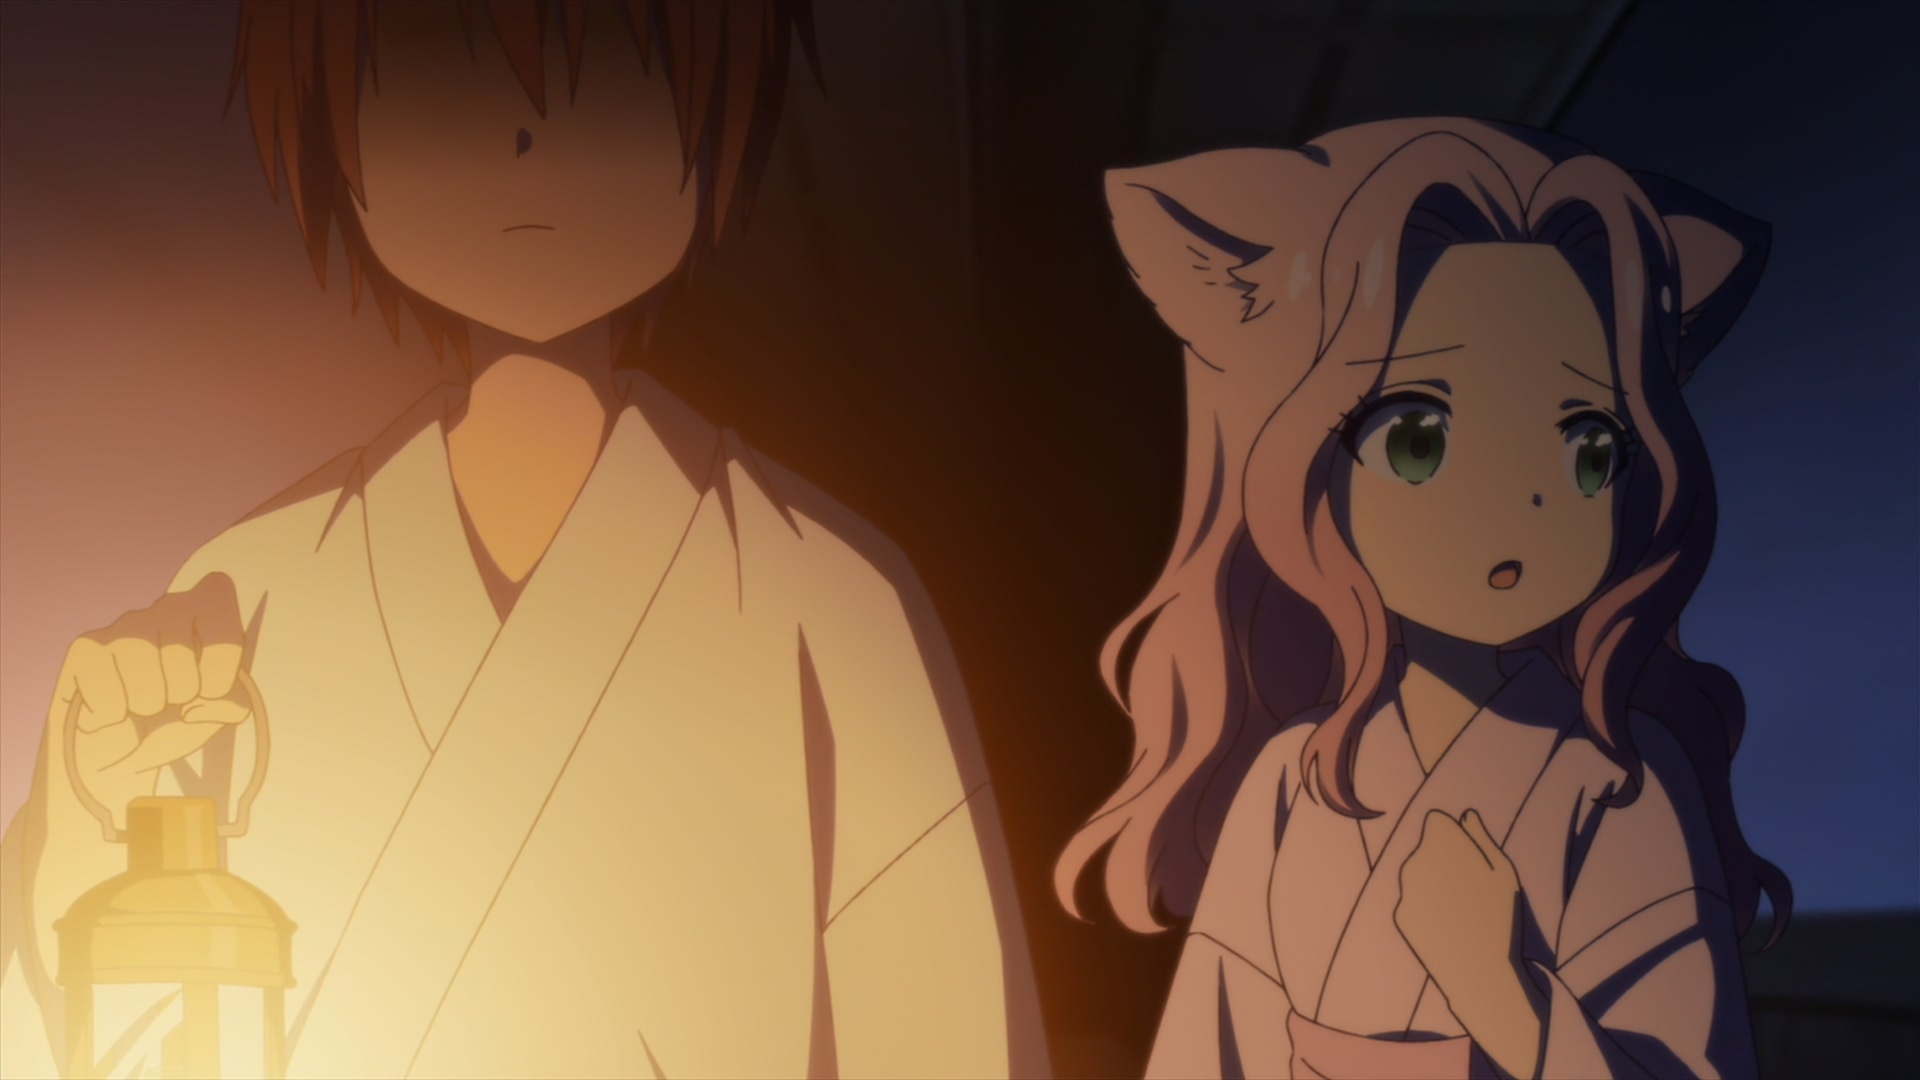枣: (1, 1, 1048, 1080)
莲: (1051, 120, 1797, 1080)
